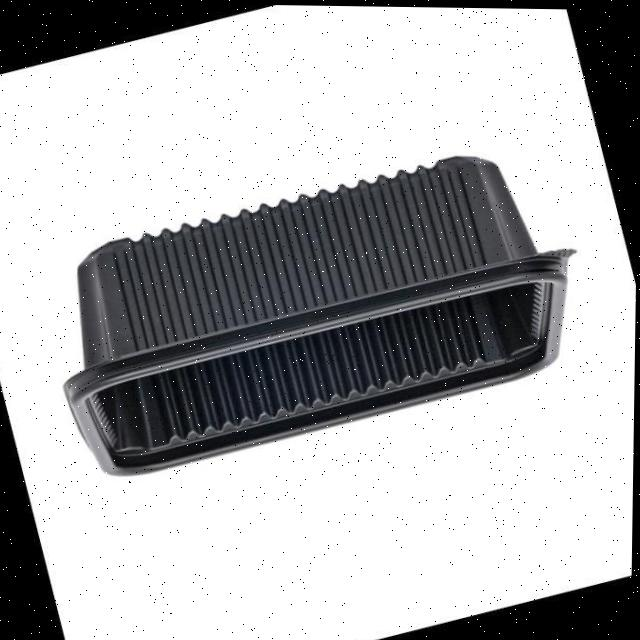disposable: (22, 137, 597, 489)
